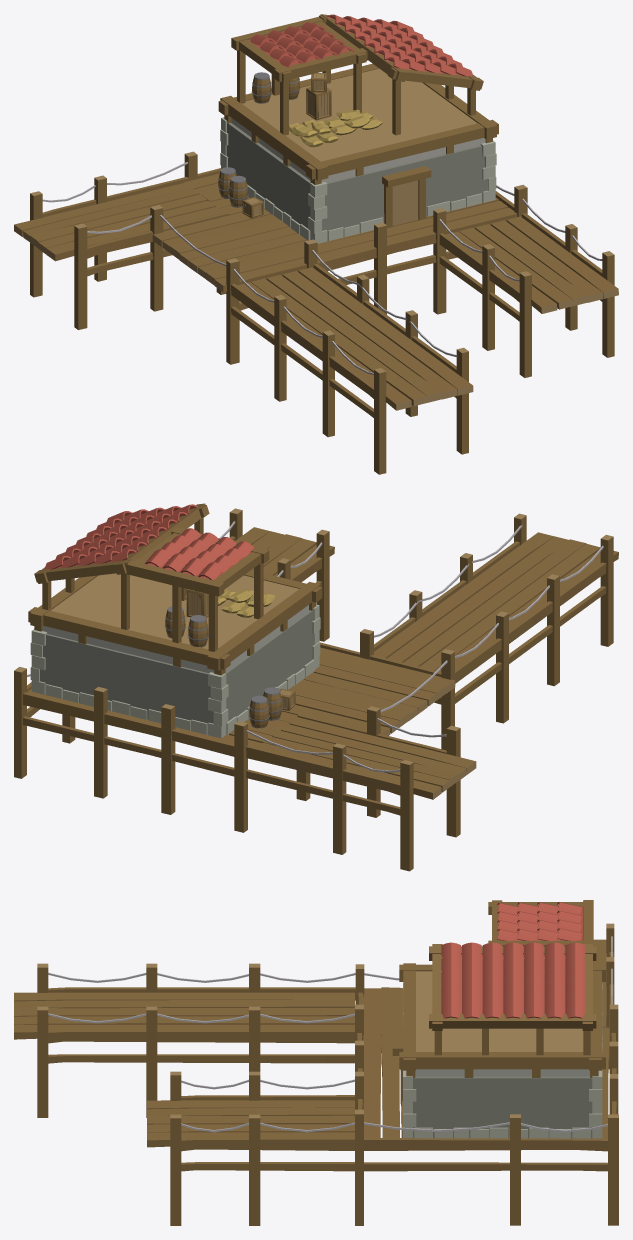
The model's file is Port_SecondAge_Level2.glb.
3 renders of one model, top to bottom at view 1: azimuth 30°, elevation 25°; view 2: azimuth 150°, elevation 25°; view 3: azimuth 270°, elevation 25°, orthographic. The views are drawn at different scales.
Visible parts, largest first — view 1: Port_SecondAge_Level2; view 2: Port_SecondAge_Level2; view 3: Port_SecondAge_Level2.
Boxes of the visible parts, bbox=[...] form: Port_SecondAge_Level2: bbox=[14, 14, 618, 474]; Port_SecondAge_Level2: bbox=[14, 503, 618, 871]; Port_SecondAge_Level2: bbox=[14, 900, 618, 1225].
Size of the model in its own units: 2.3 by 1.25 by 2.88.
Materials: 1 (1 with a texture image).
